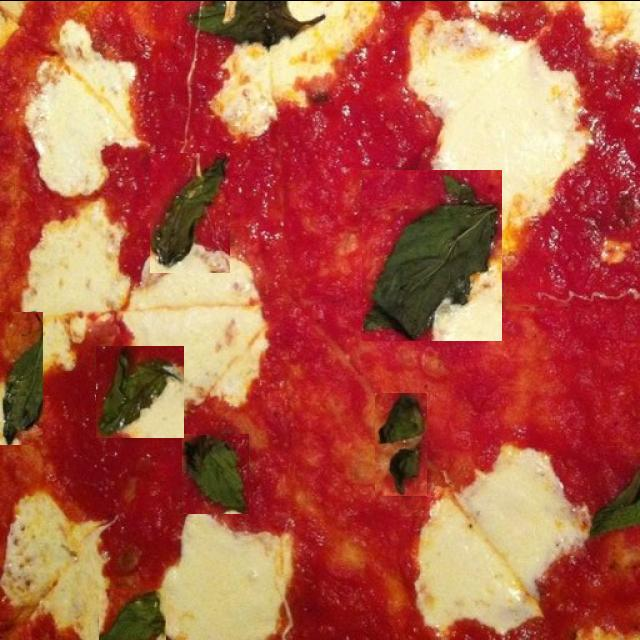basil: (362, 169, 502, 340), (150, 152, 230, 272), (96, 345, 184, 437), (0, 311, 43, 444), (182, 432, 249, 512), (375, 392, 427, 495), (586, 468, 640, 538), (99, 588, 166, 640)
pizza: (0, 1, 640, 640)
